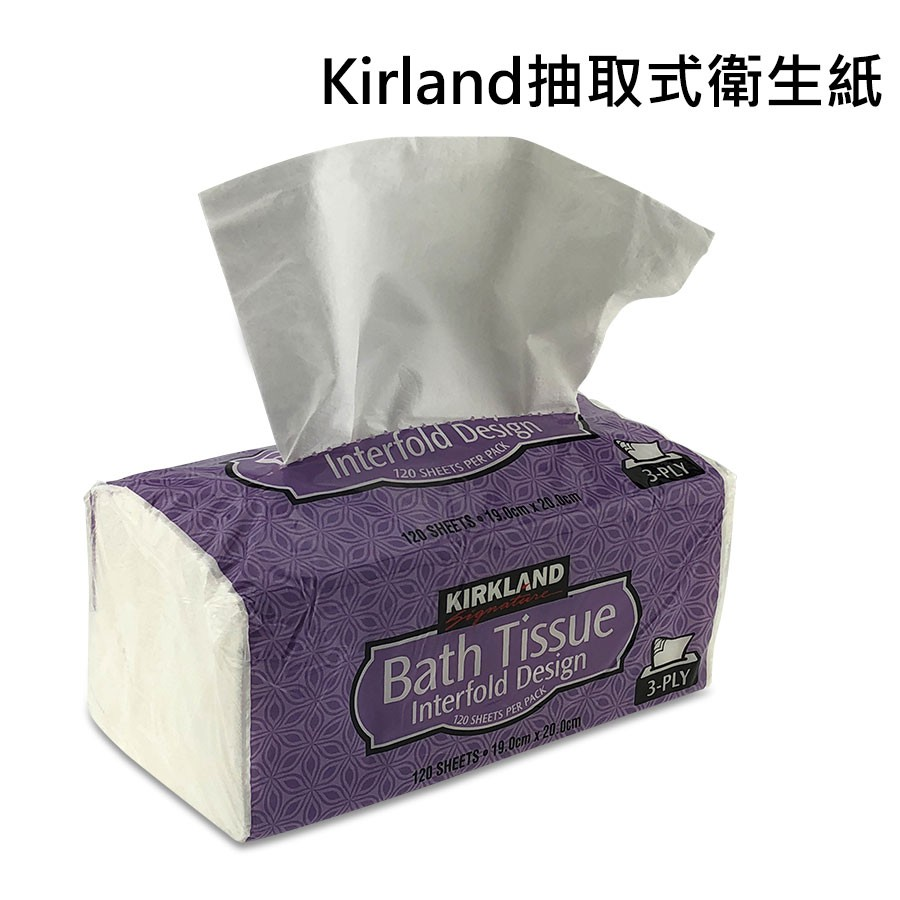tissue: (85, 148, 734, 843)
